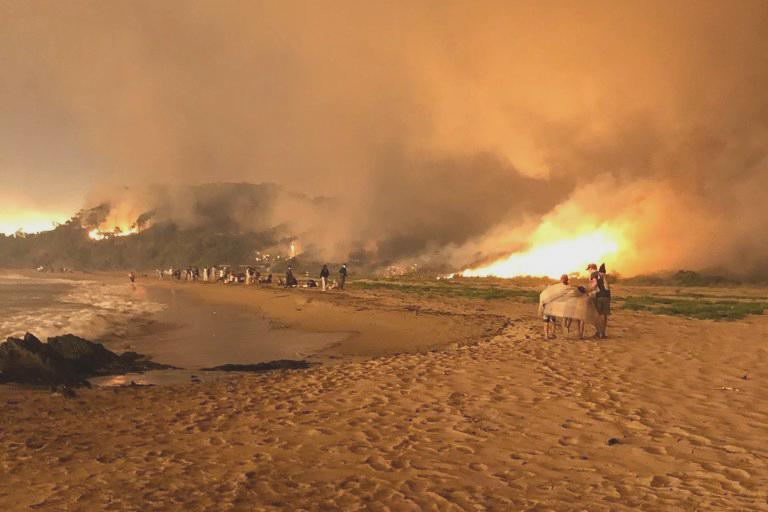Fire: (440, 230, 623, 285), (117, 222, 142, 238), (88, 228, 107, 243), (285, 241, 300, 258)
